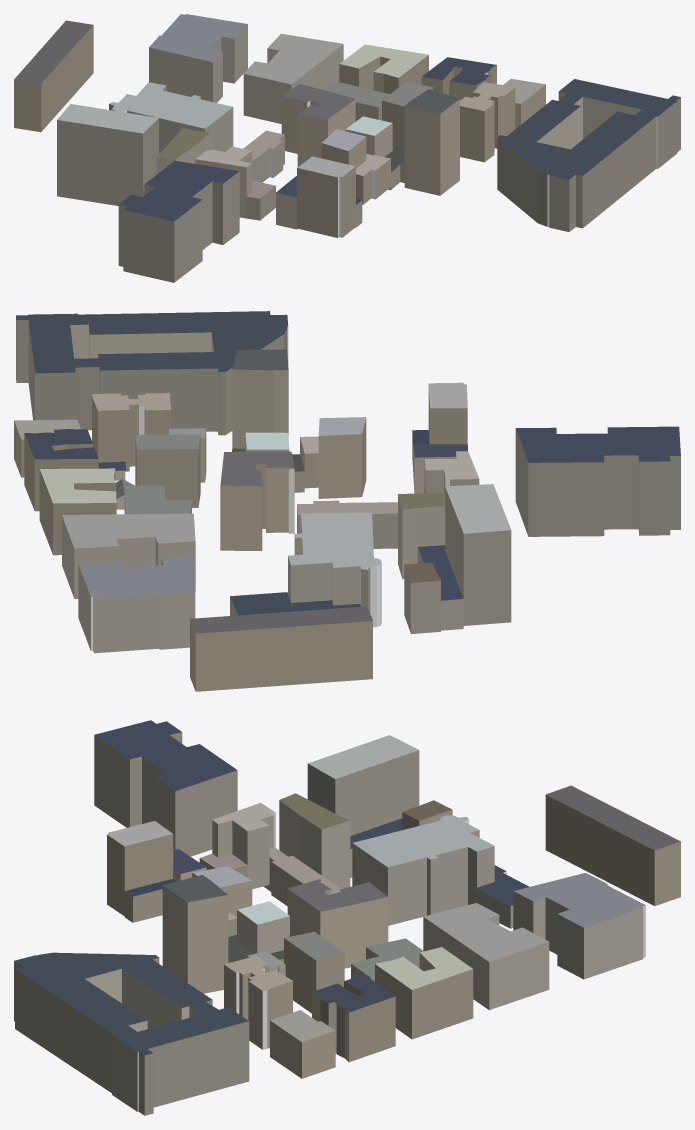
3 renders of one model, top to bottom at view 1: azimuth 30°, elevation 25°; view 2: azimuth 150°, elevation 25°; view 3: azimuth 270°, elevation 25°, orthographic. The views are drawn at different scales.
Visible parts, largest first — view 1: tuile; view 2: tuile; view 3: tuile.
Boxes of the visible parts, x1,y1,x2,y2 form: tuile: (14,14,680,282); tuile: (14,311,680,691); tuile: (14,720,680,1115).
Bounding box in the file's own units: 329 × 50.23 × 297.
